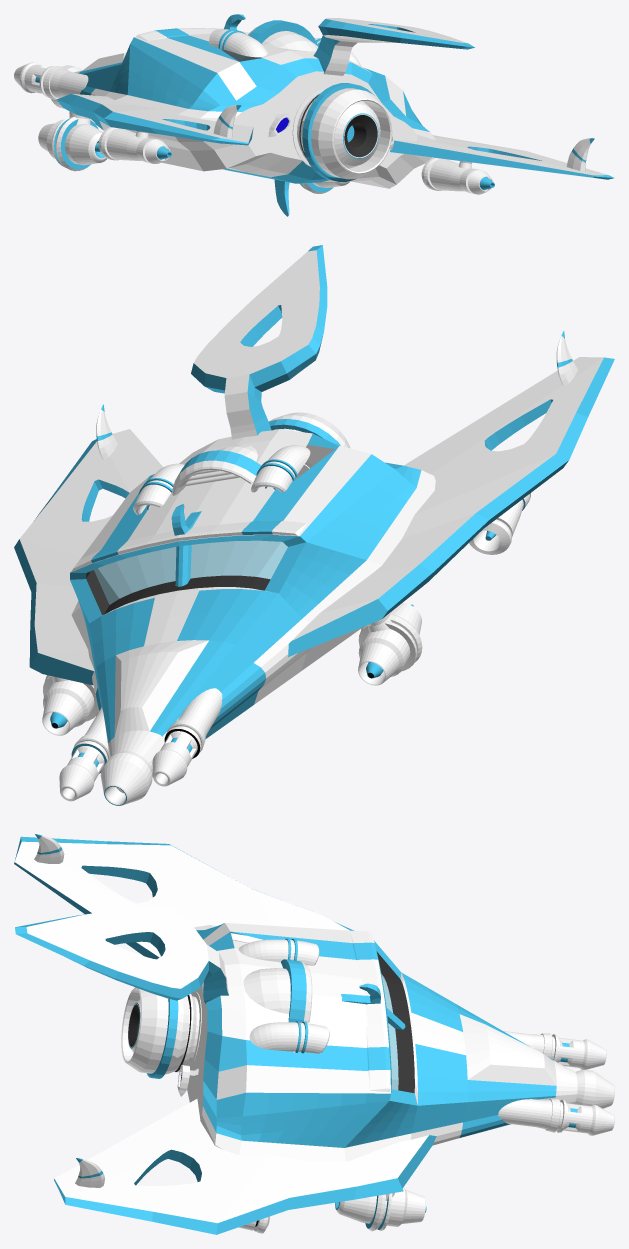
The model's file is ship.glb.
3 renders of one model, top to bottom at view 1: azimuth 30°, elevation 25°; view 2: azimuth 150°, elevation 25°; view 3: azimuth 270°, elevation 25°, orthographic. The views are drawn at different scales.
Parts seen in each view (by area): view 1: Cube.003_Cube.001; view 2: Cube.003_Cube.001; view 3: Cube.003_Cube.001.
Boxes of the visible parts, <box> form: Cube.003_Cube.001: <box>14,14,614,216</box>; Cube.003_Cube.001: <box>14,245,614,805</box>; Cube.003_Cube.001: <box>14,834,614,1234</box>.
Size of the model in its own units: 34.74 by 20.48 by 39.05.
